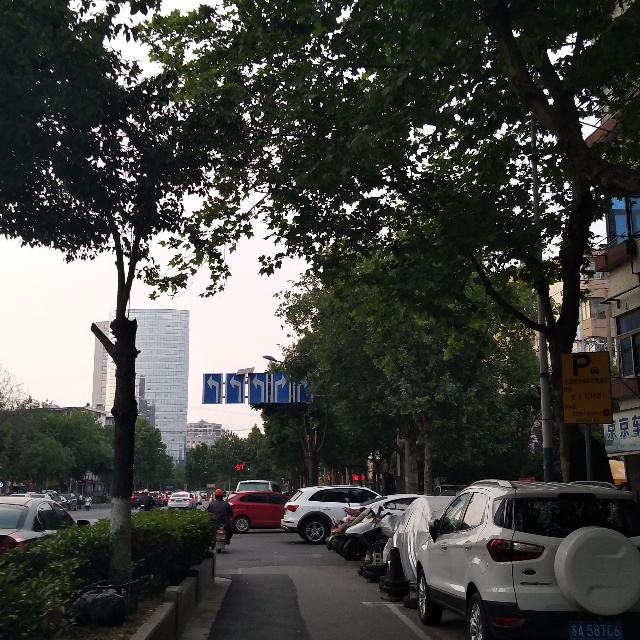left: (248, 372, 270, 407), (224, 371, 245, 405), (203, 372, 221, 405)
right: (272, 370, 293, 406), (297, 371, 316, 408)
